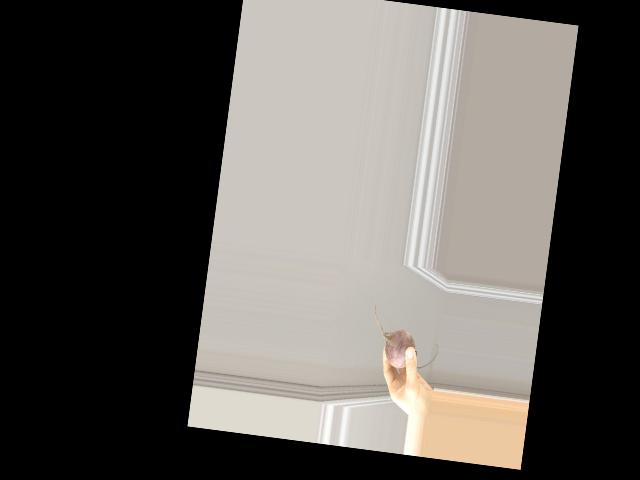beet: (367, 302, 443, 372)
